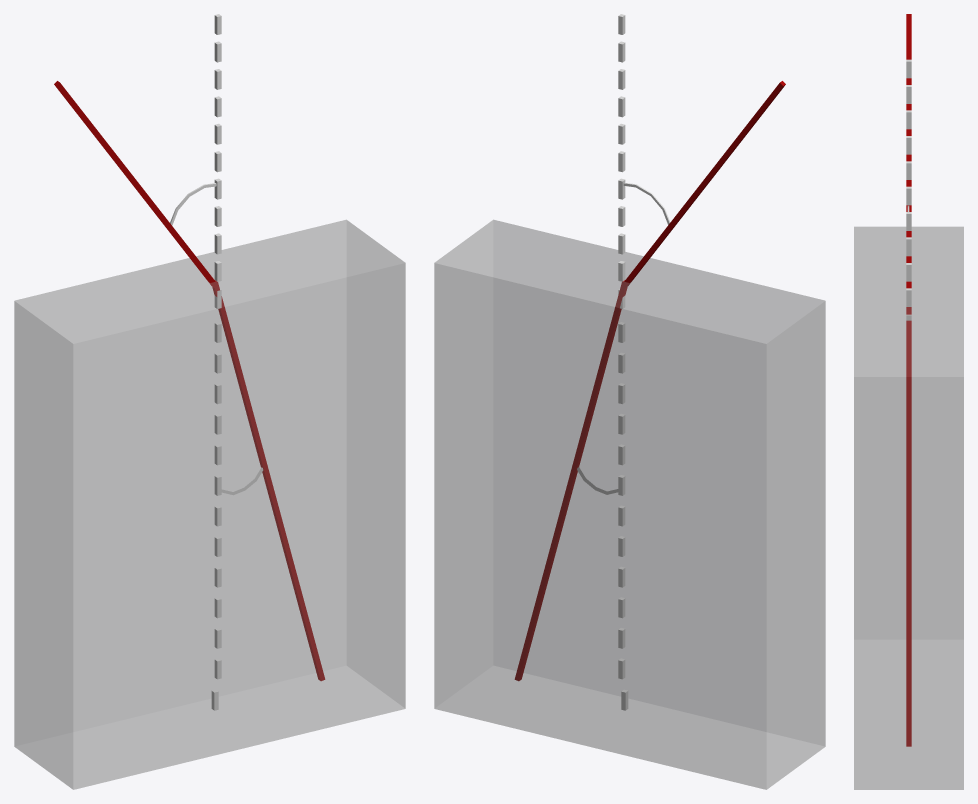
File: second_law.fbx
3 renders of one model, left to right at view 1: azimuth 30°, elevation 25°; view 2: azimuth 150°, elevation 25°; view 3: azimuth 270°, elevation 25°, orthographic. The views are drawn at different scales.
Parts seen in each view (by area): view 1: second_law; view 2: second_law; view 3: second_law.
Boxes of the visible parts, <box> form: second_law: <box>14,14,405,789</box>; second_law: <box>434,14,825,789</box>; second_law: <box>854,14,963,789</box>.
Size of the model in its own units: 51.48 by 105 by 15.88.
